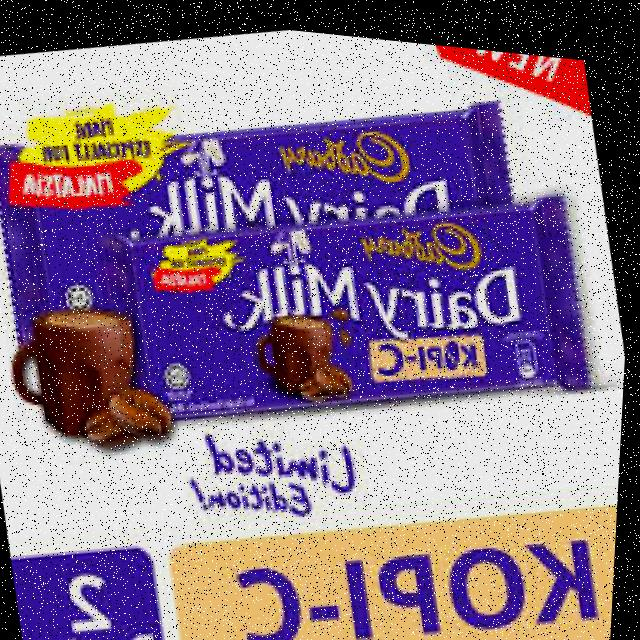cadbury: (0, 58, 544, 439), (135, 164, 568, 442)
